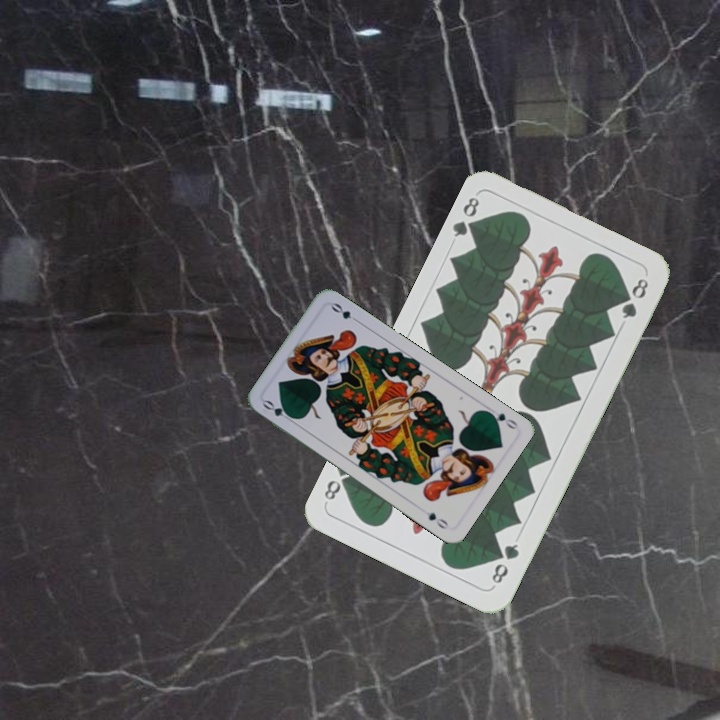G8: (448, 192, 484, 240), (487, 539, 522, 586)
GO: (259, 396, 298, 425), (482, 407, 520, 432)
